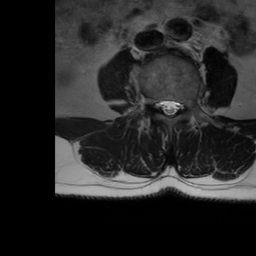CCS_normal: (166, 91, 172, 124)
LFS_normal: (180, 95, 187, 118)
LLS_normal: (172, 95, 180, 119)
RFS_normal: (149, 90, 158, 113)
RLS_normal: (159, 93, 166, 115)
